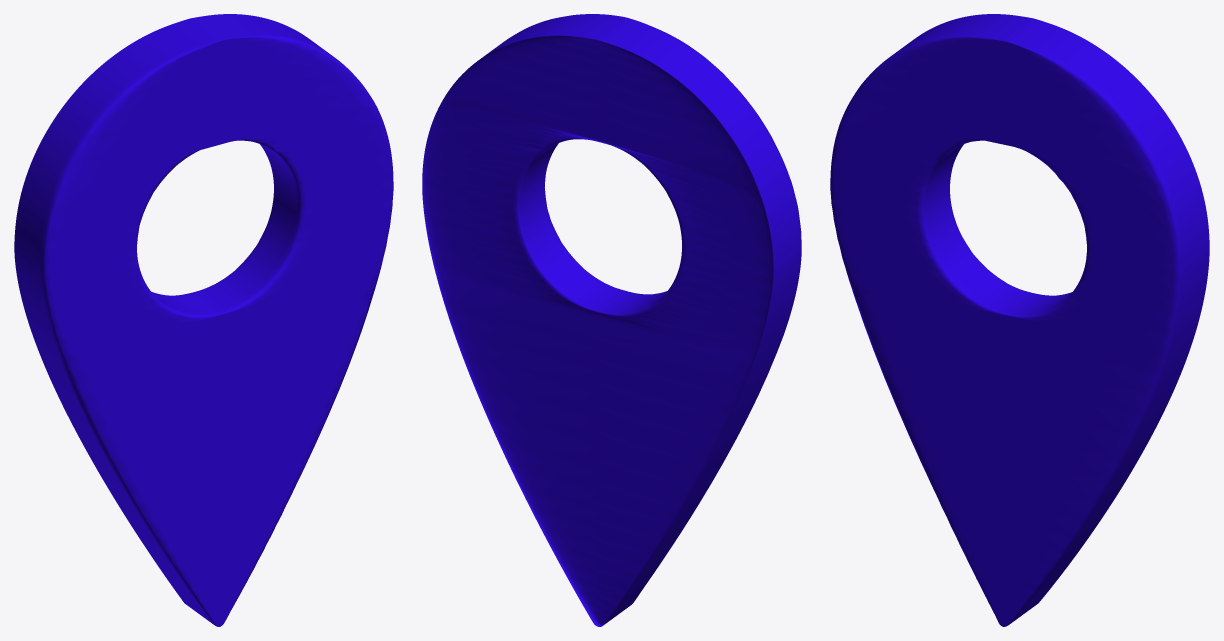
The model's file is blue.gltf.
3 views of the same model, side by side, from view 1: azimuth 30°, elevation 25°; view 2: azimuth 150°, elevation 25°; view 3: azimuth 330°, elevation 25° (orthographic).
Visible parts, largest first — view 1: Curve_2; view 2: Curve_2; view 3: Curve_2.
Part boxes in pixels (x1,y1,x2,y2): Curve_2: (14, 14, 393, 626); Curve_2: (422, 14, 801, 626); Curve_2: (830, 14, 1209, 626).
Bounding box in the file's own units: 0.2761 × 0.4404 × 0.0416.
